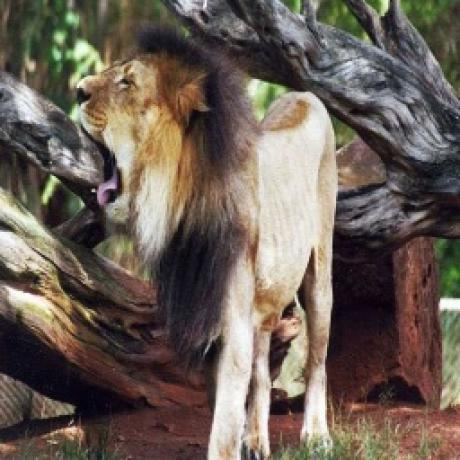Lion: (59, 29, 338, 460)
